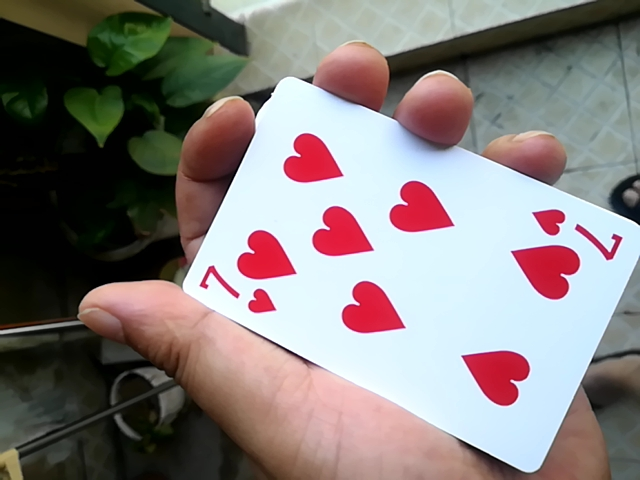hx 7: (176, 64, 640, 468)
